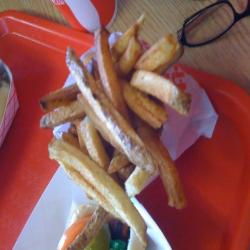fries: (46, 31, 195, 218)
